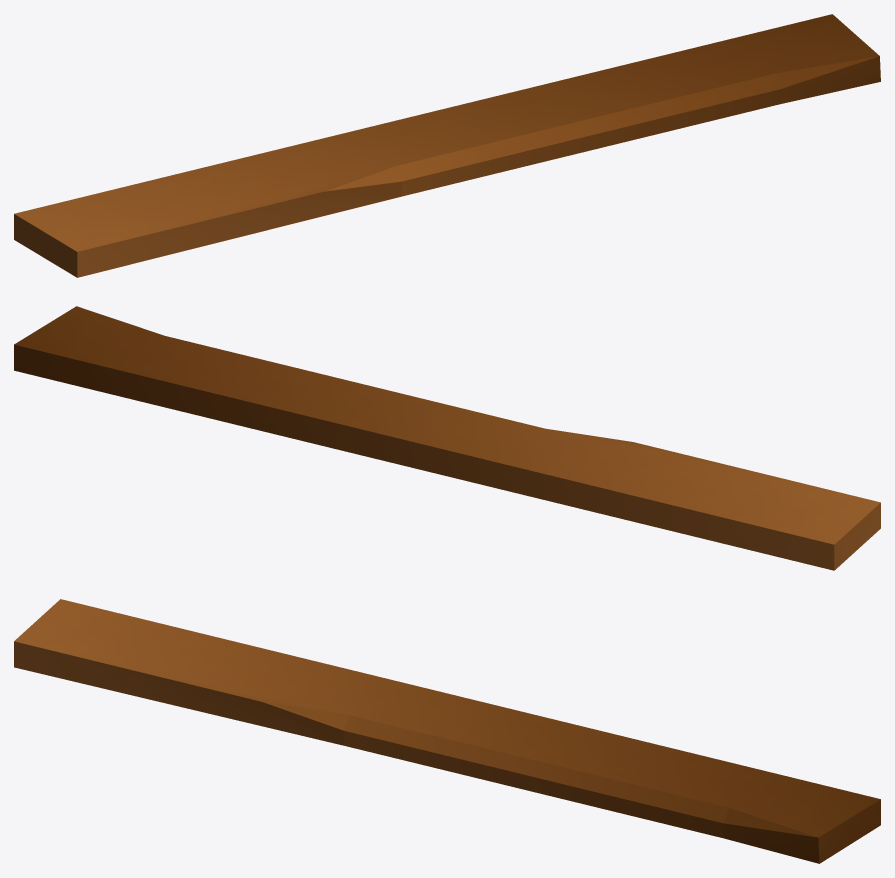
File: Wood_Plank_D.fbx
3 views of the same model, one above another, from view 1: azimuth 30°, elevation 25°; view 2: azimuth 150°, elevation 25°; view 3: azimuth 330°, elevation 25° (orthographic).
Visible parts, largest first — view 1: Wood_Plank_D; view 2: Wood_Plank_D; view 3: Wood_Plank_D.
Part boxes in pixels (x1=…): Wood_Plank_D: x1=14, y1=14, x2=880, y2=277; Wood_Plank_D: x1=14, y1=306, x2=880, y2=570; Wood_Plank_D: x1=14, y1=599, x2=880, y2=863.
Bounding box in the file's own units: 227 × 6.87 × 26.3.
